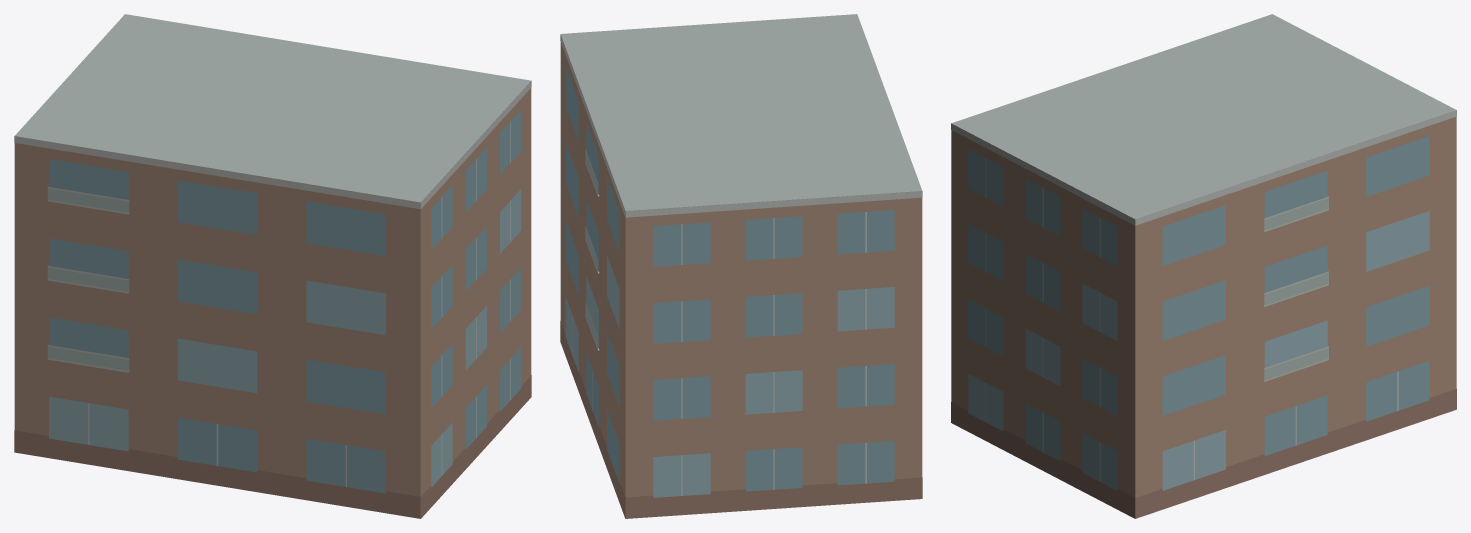
Rendered from survey-upis-32774849.glb.
3 views of the same model, side by side, from view 1: azimuth 30°, elevation 25°; view 2: azimuth 150°, elevation 25°; view 3: azimuth 270°, elevation 25° (orthographic). The views are drawn at different scales.
Parts seen in each view (by area): view 1: survey-upis-32774849.tmp; view 2: survey-upis-32774849.tmp; view 3: survey-upis-32774849.tmp.
Boxes of the visible parts, box(x1,y1,x2,y2) form: survey-upis-32774849.tmp: box(14, 14, 531, 518); survey-upis-32774849.tmp: box(560, 14, 922, 518); survey-upis-32774849.tmp: box(951, 14, 1456, 518).
Size of the model in its own units: 16.62 by 11.3 by 17.29.
